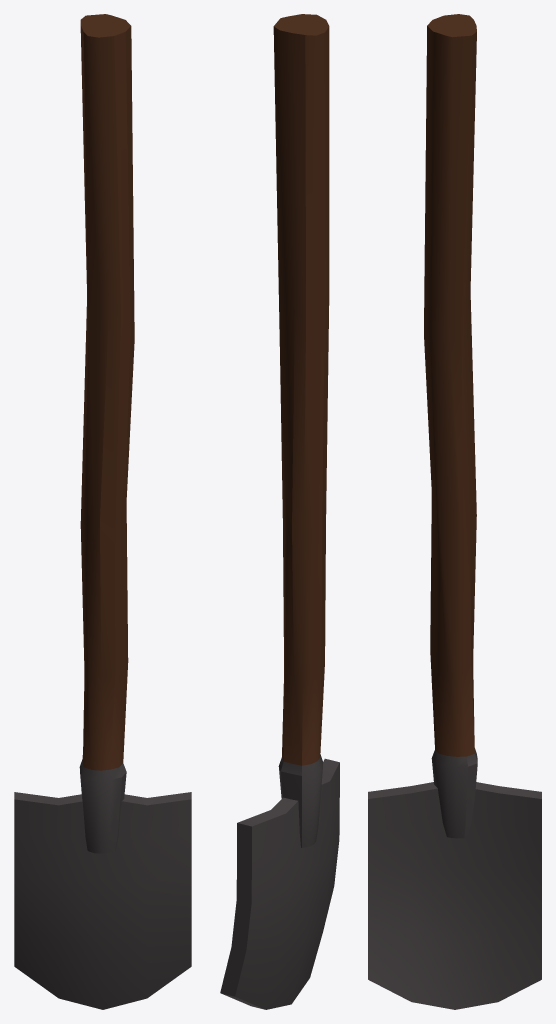
The model's file is shovel.fbx.
3 renders of one model, left to right at view 1: azimuth 90°, elevation 25°; view 2: azimuth 150°, elevation 25°; view 3: azimuth 270°, elevation 25°, orthographic.
Parts seen in each view (by area): view 1: Cube.030; view 2: Cube.030; view 3: Cube.030.
Part boxes in pixels (x1,y1,x2,y2): Cube.030: (14,14,191,1009); Cube.030: (220,14,339,1009); Cube.030: (368,14,541,1009).
Size of the model in its own units: 23.16 by 345 by 55.96.
